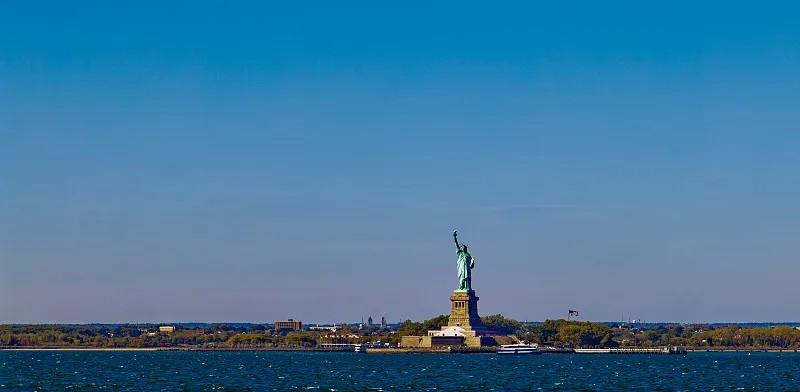SL: (447, 229, 479, 326)
